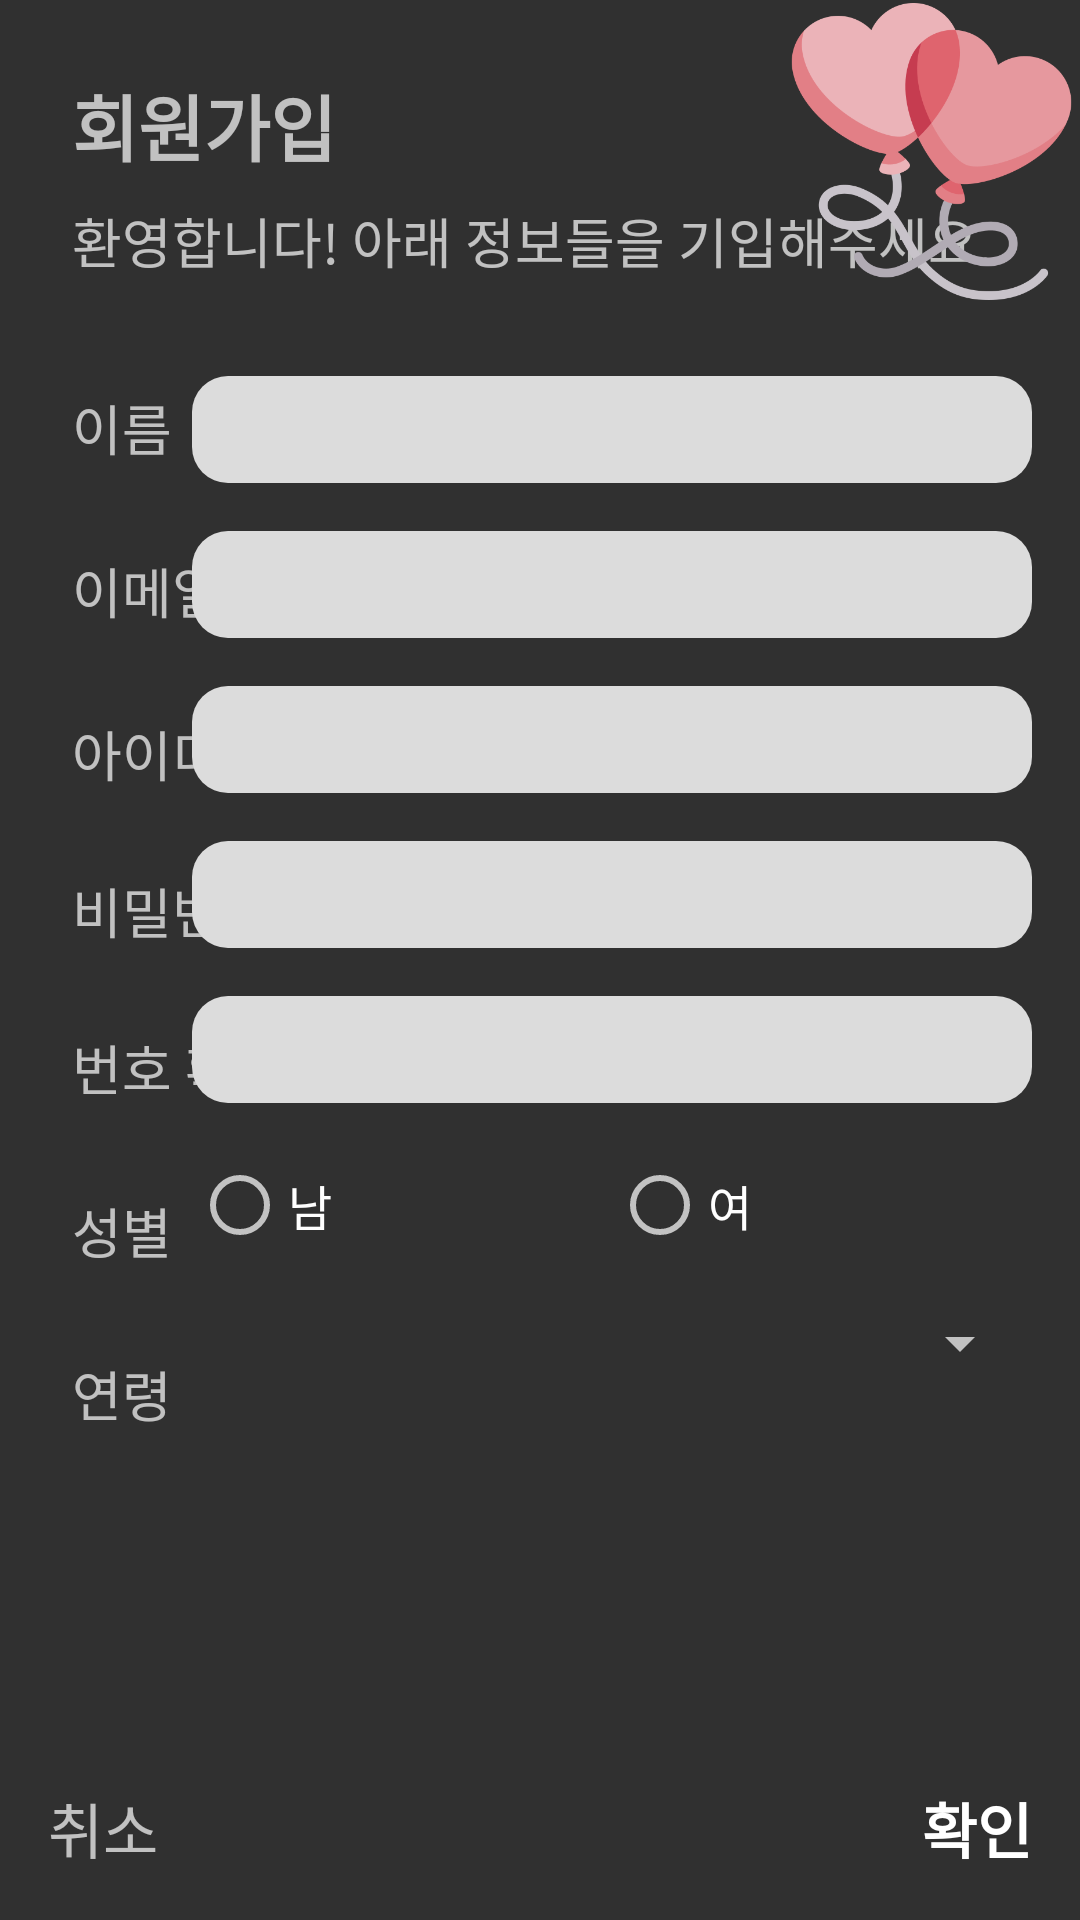

Named icons in this screenshot (1080*1920) and their centers, (x,y):
loginheart: (927,151)
